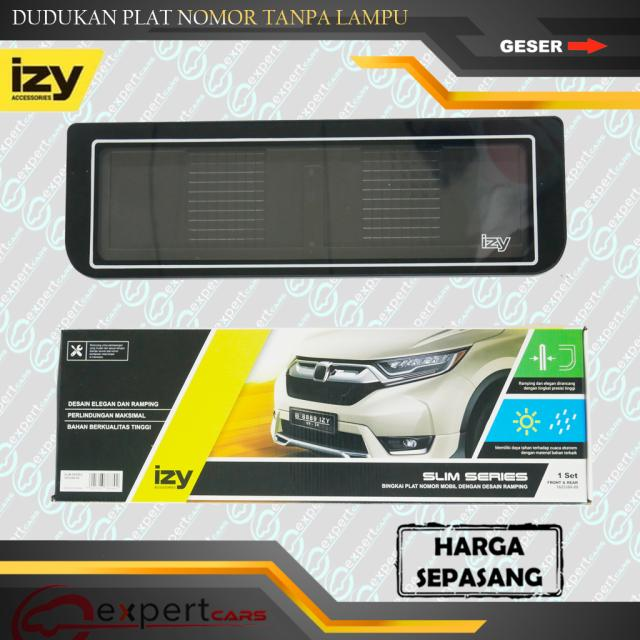lisence-plate: (86, 132, 544, 276)
